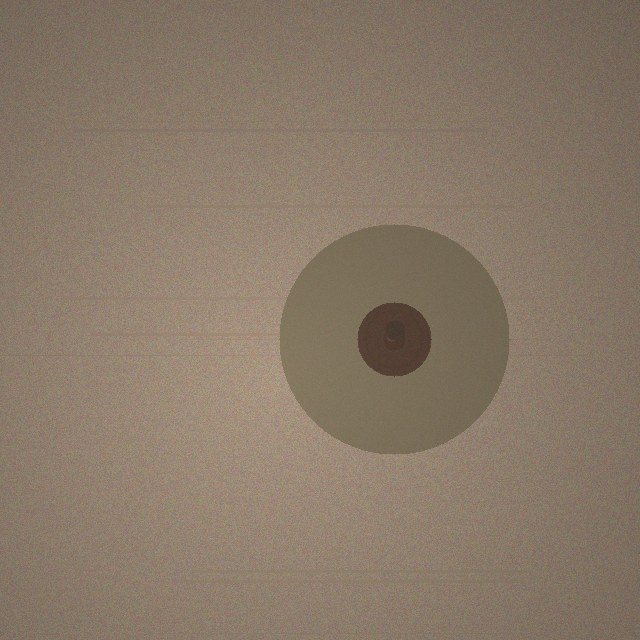cold_weld: (279, 224, 509, 454)
